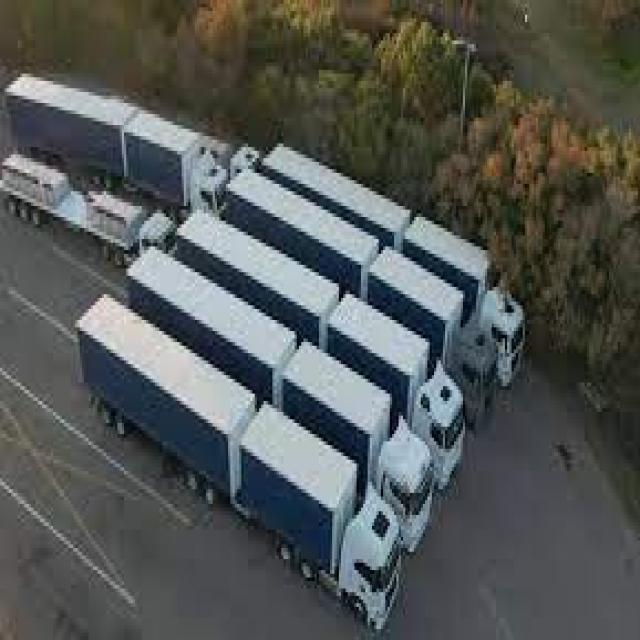Heavy Duty Truck: (69, 294, 394, 636), (128, 243, 428, 559), (193, 206, 465, 493)
